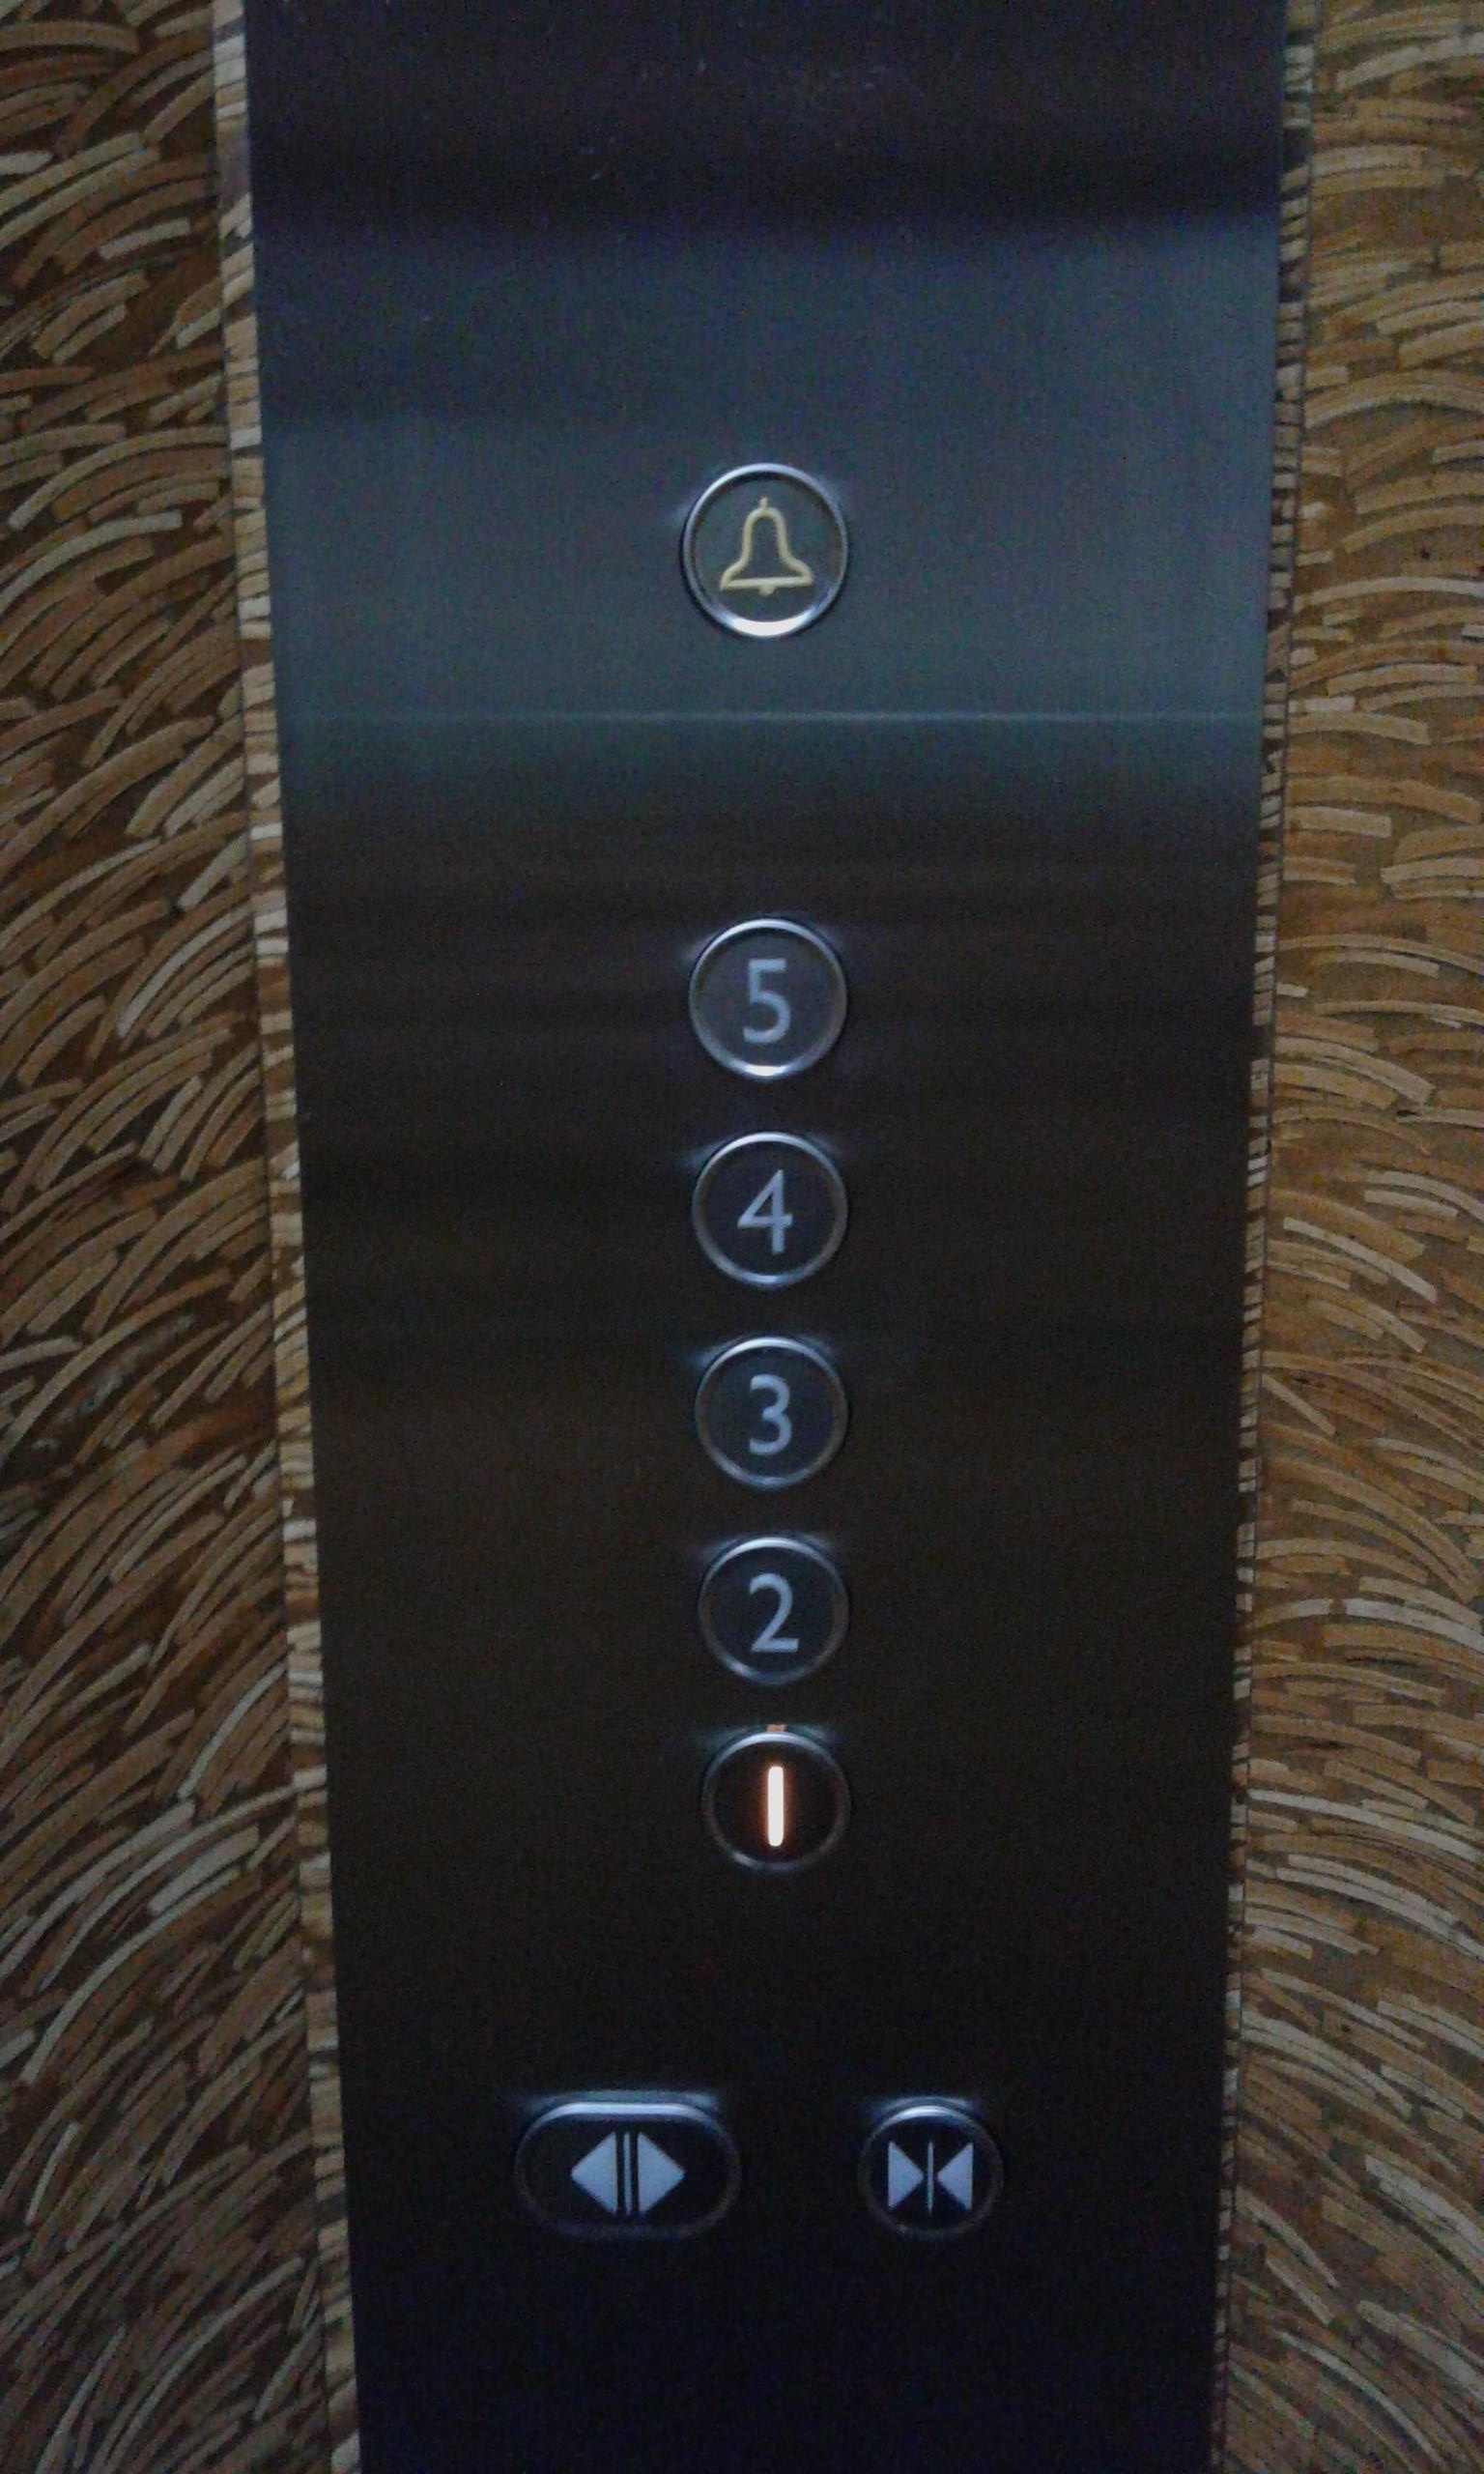1: (700, 1721, 860, 1884)
2: (689, 1525, 853, 1698)
3: (684, 1324, 862, 1499)
4: (680, 1122, 859, 1297)
5: (675, 905, 857, 1090)
alarm: (668, 449, 862, 650)
close: (841, 2087, 1012, 2251)
open: (505, 2085, 747, 2251)
